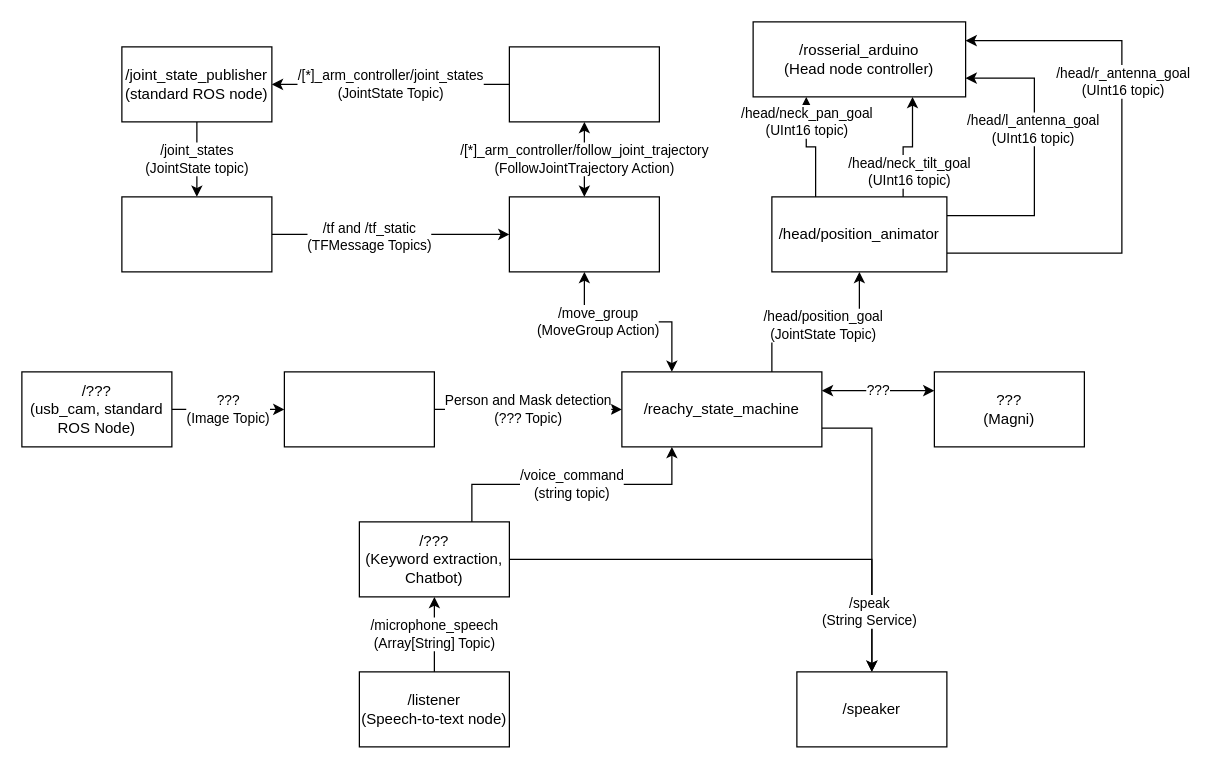
Image size: 1211x769. Some labels were removed from this diagram. The centre of each missing label's shape, as x and y in pixels:
"/??? (Computer Vision Node)" goes at point 358,409.
"/[*]_arm_controller" goes at point 583,84.
"/move_group (MoveIt node)" goes at point 583,234.
"/robot_state_publisher (standard ROS node)" goes at point 196,234.
